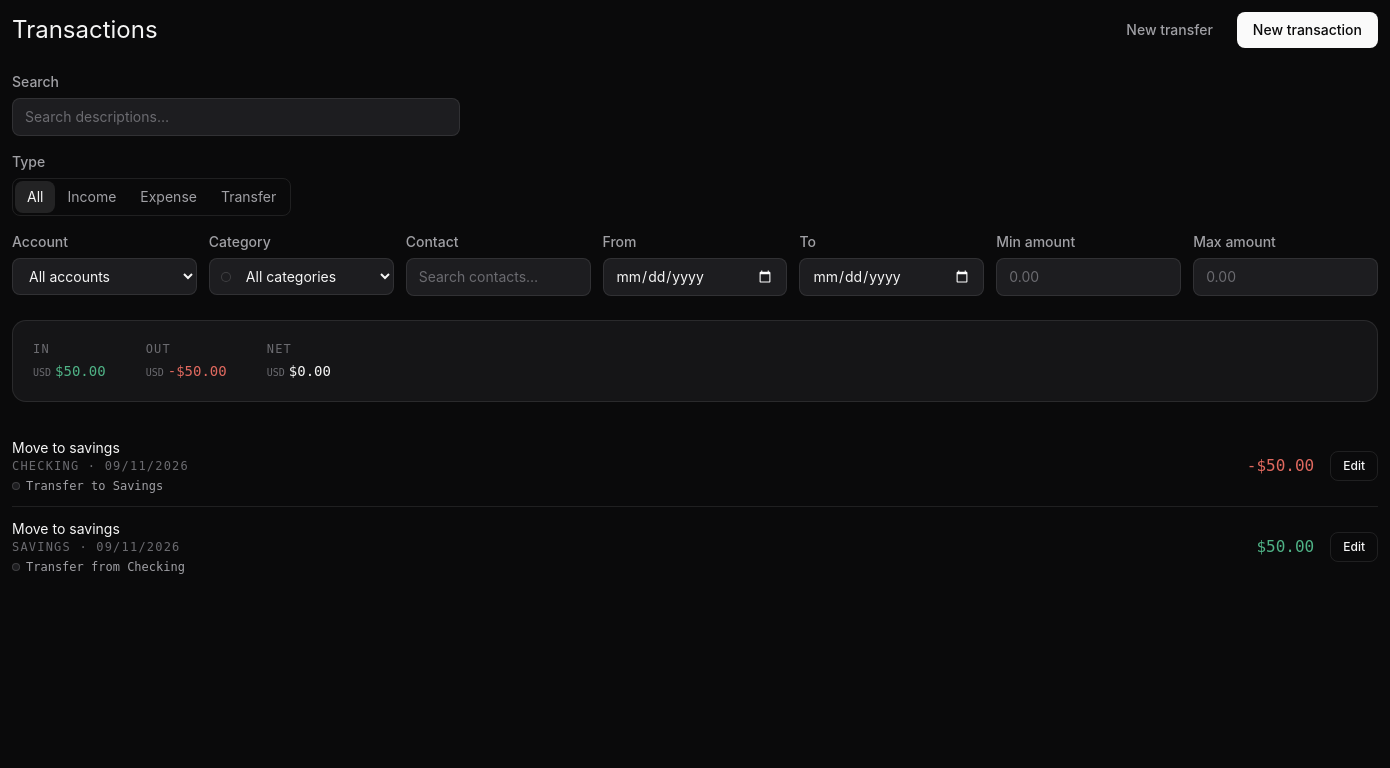
TransactionsScreen — transfer legs › opens the transfer form from the New transfer action
Click the button "New transfer" at coordinates (1170, 30), box x1=1110 y1=12 x2=1229 y2=48
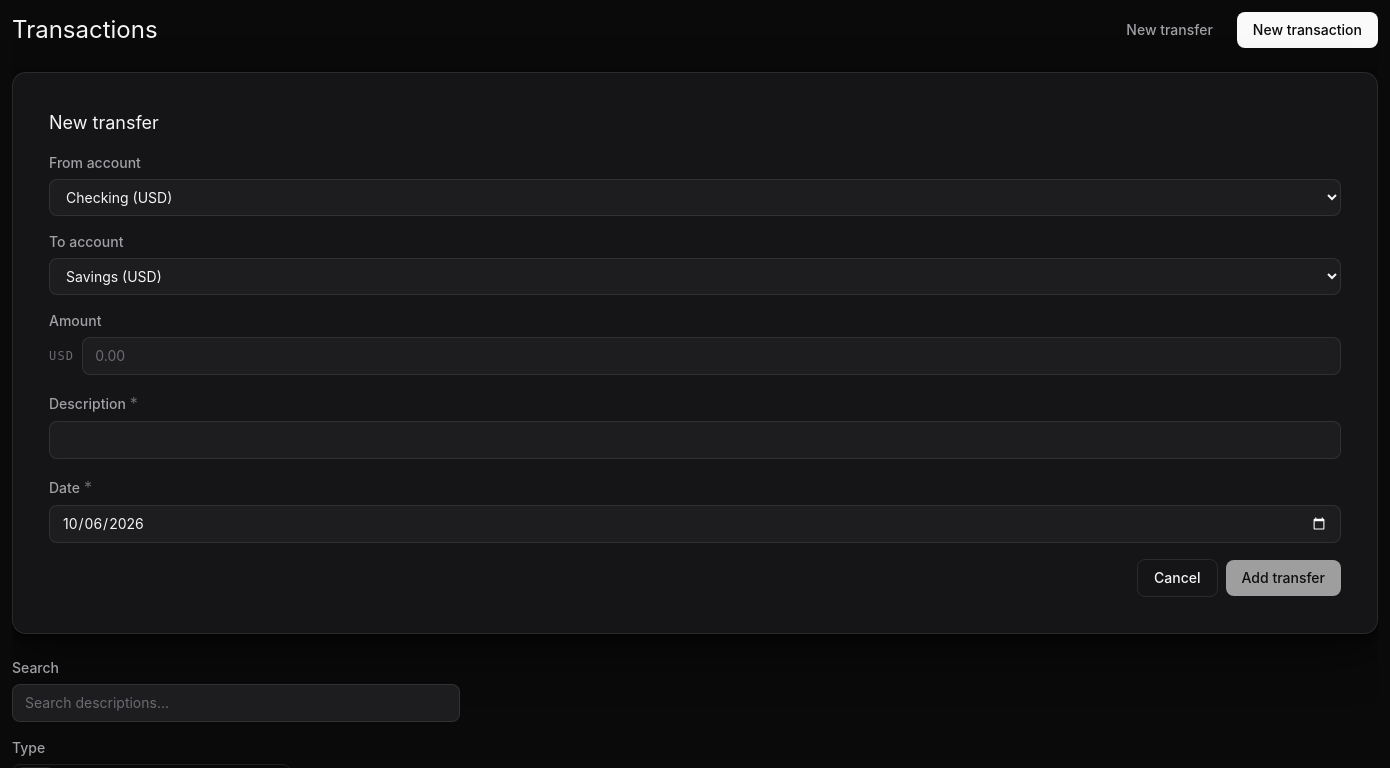
Now the dropdown labelled "From account" is shown, box x1=49 y1=179 x2=1341 y2=216
Now the dropdown labelled "To account" is shown, box x1=49 y1=258 x2=1341 y2=295
